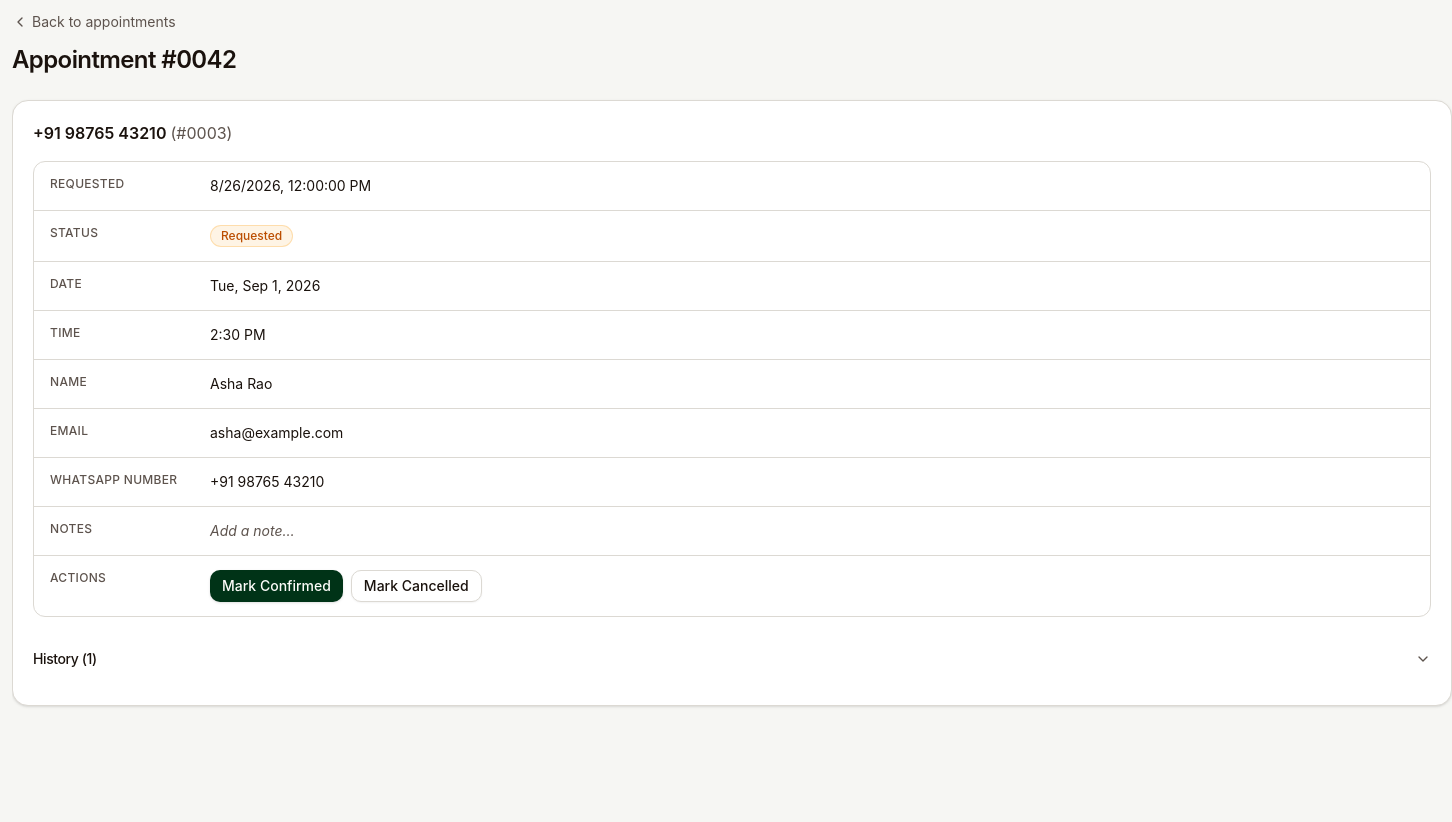
Test: AppointmentDetailPage › falls back to a generic label when a staff actor has no resolved name
The width and height of the screenshot is (1452, 822).
Expected: the text "Asha Rao" is shown, [194,360,1430,408]
Step 1. Click the button "History (1)" → (60, 658), box [33,633,1431,685]
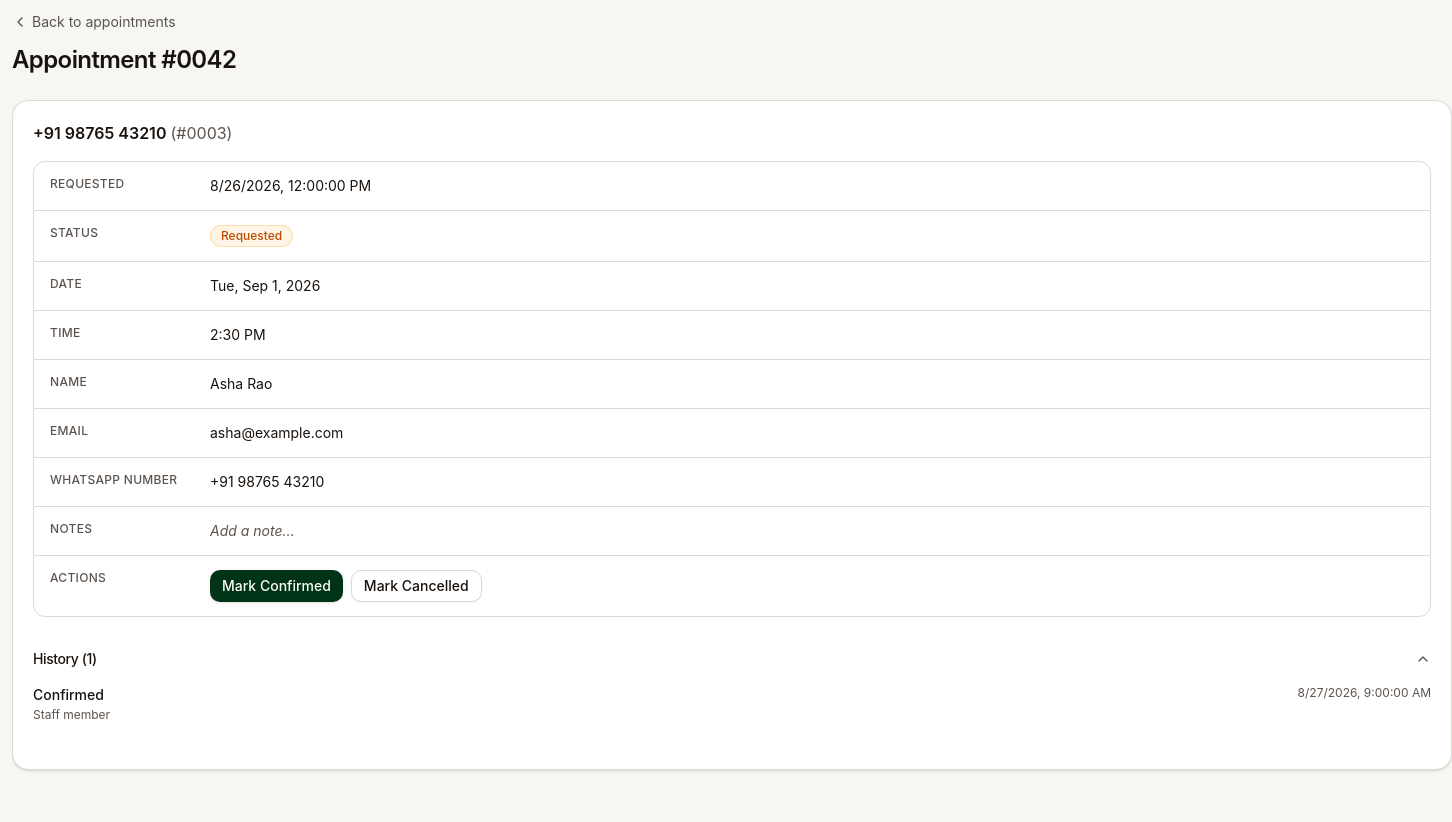
Expected: the text "Staff member" is shown, [33,707,110,723]
